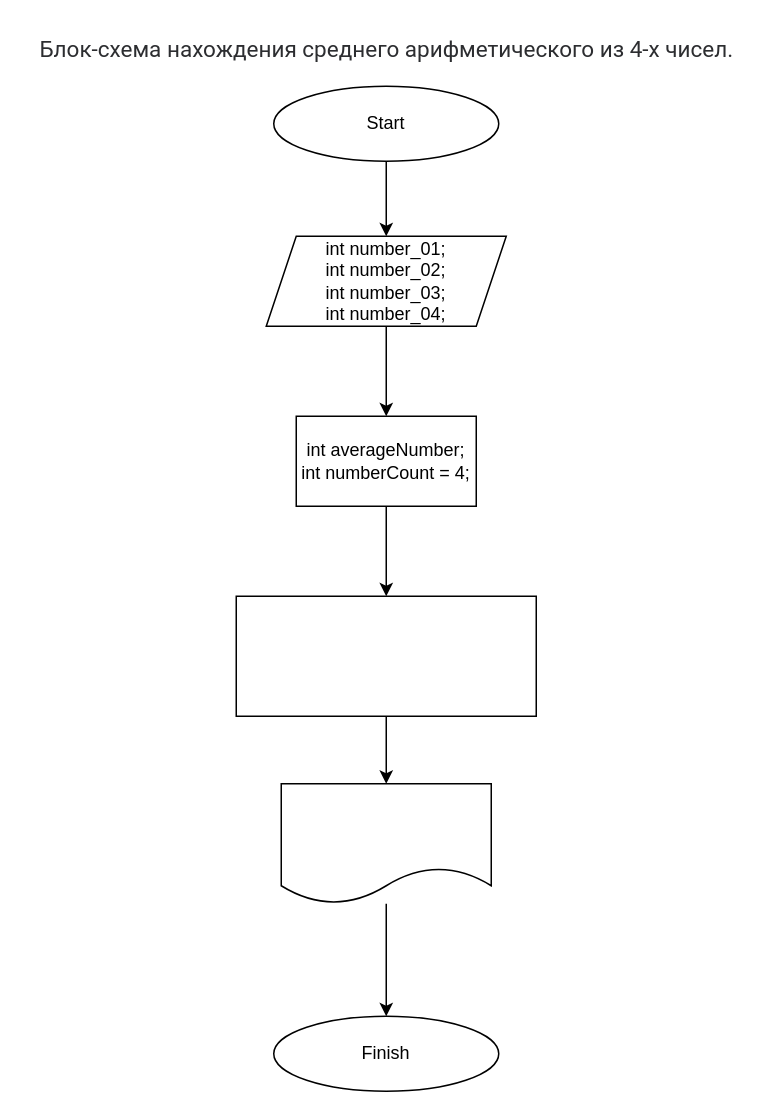
Some shapes in this 771 by 1118 pixel diagram are drawn without their labels. The centre of each missing label's shape, as x and y in pixels:
averageNumber = (number_01 + number_02 + number_03 + number_04) / numberCount;: point 385,655
Print(averageNumber);: point 385,843
